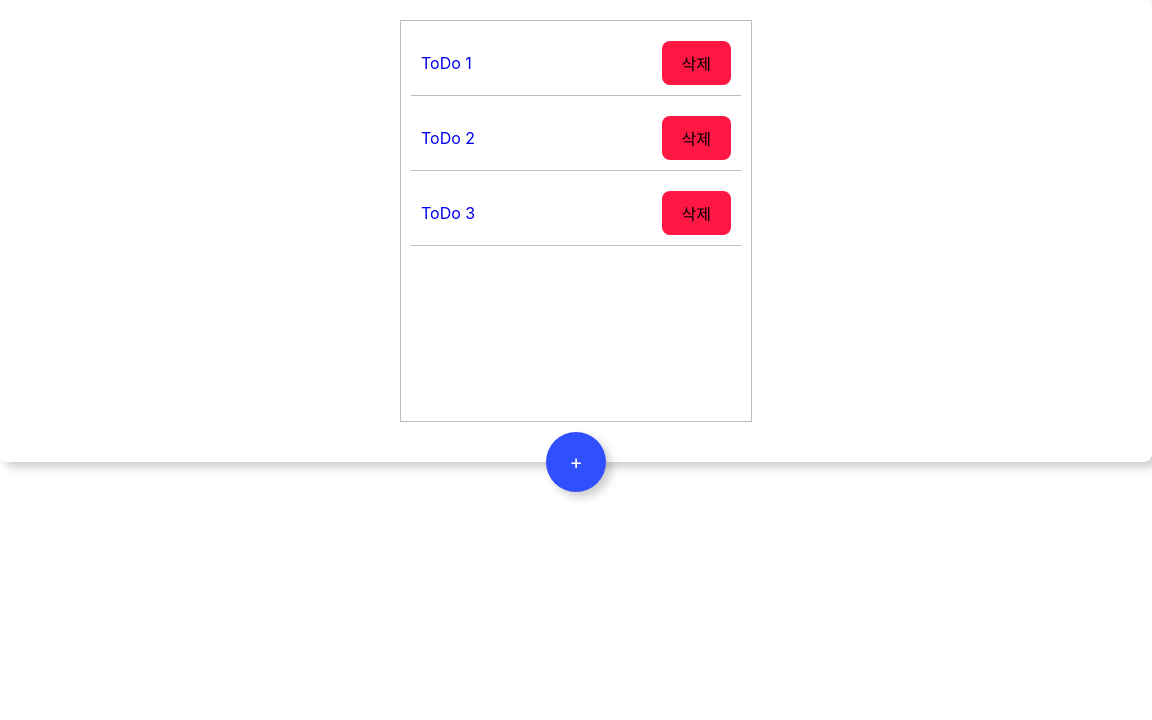
it: <List /> › deletes toDo item
Expected: the link "ToDo 2" is shown, [421,128,475,148]
Click the element showing "삭제" in the row of "ToDo 2": (696, 138) [662,116,731,160]
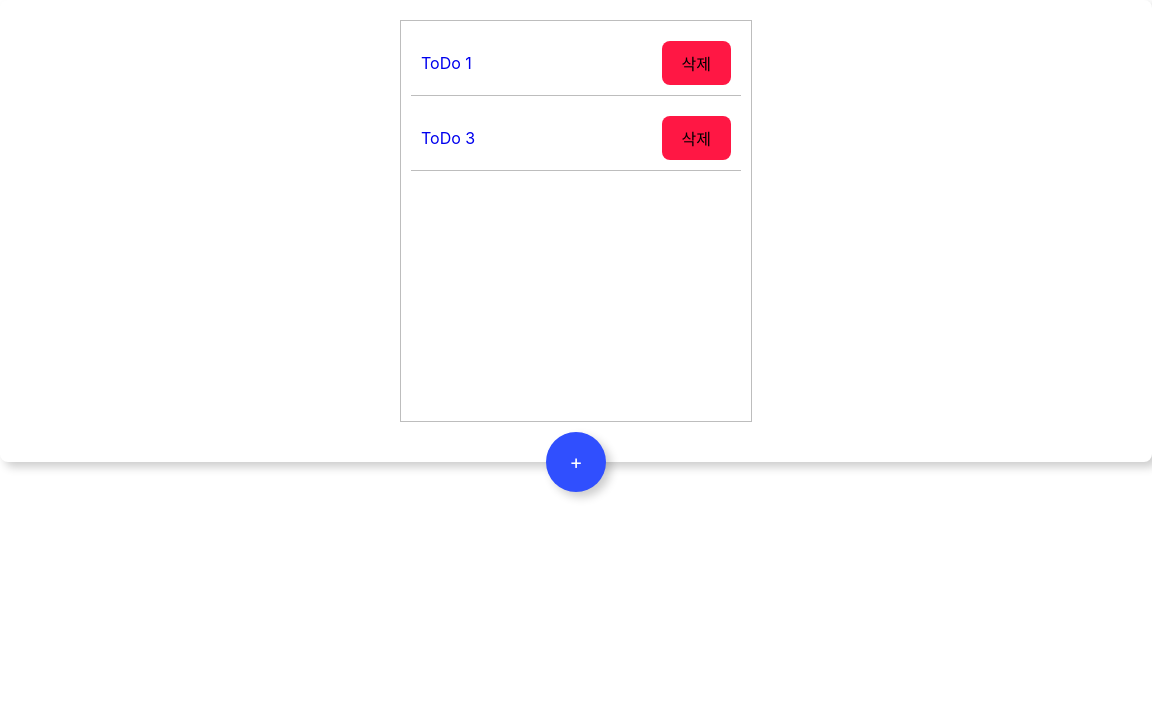
Expected: the link "ToDo 2" is gone
Expected: the link "ToDo 2" no longer shows "ToDo 2"
